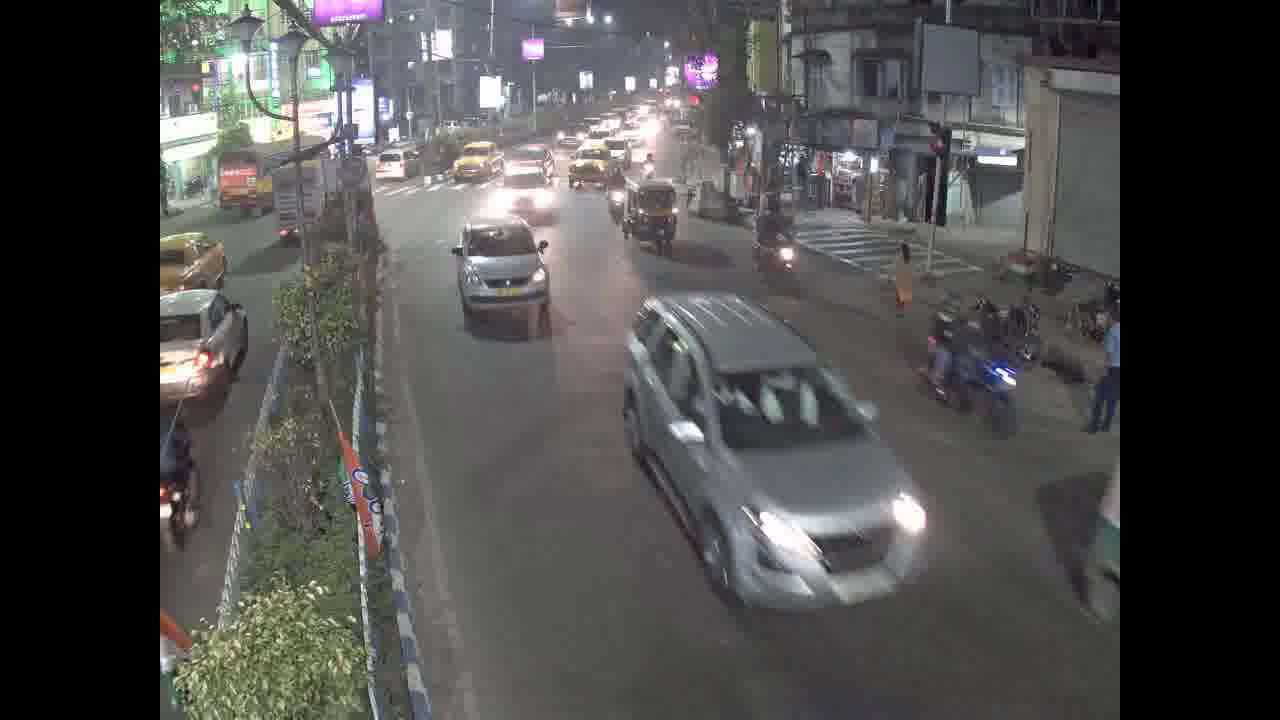auto-rickshaw: (622, 177, 681, 255)
bike: (901, 328, 1028, 459), (157, 428, 201, 552), (737, 234, 818, 288)
car: (630, 294, 928, 613), (155, 302, 252, 403), (461, 218, 561, 308), (152, 226, 230, 293), (501, 163, 556, 215), (570, 142, 617, 183), (450, 142, 494, 178), (374, 151, 413, 179)
person: (877, 239, 924, 315), (754, 200, 797, 241)
